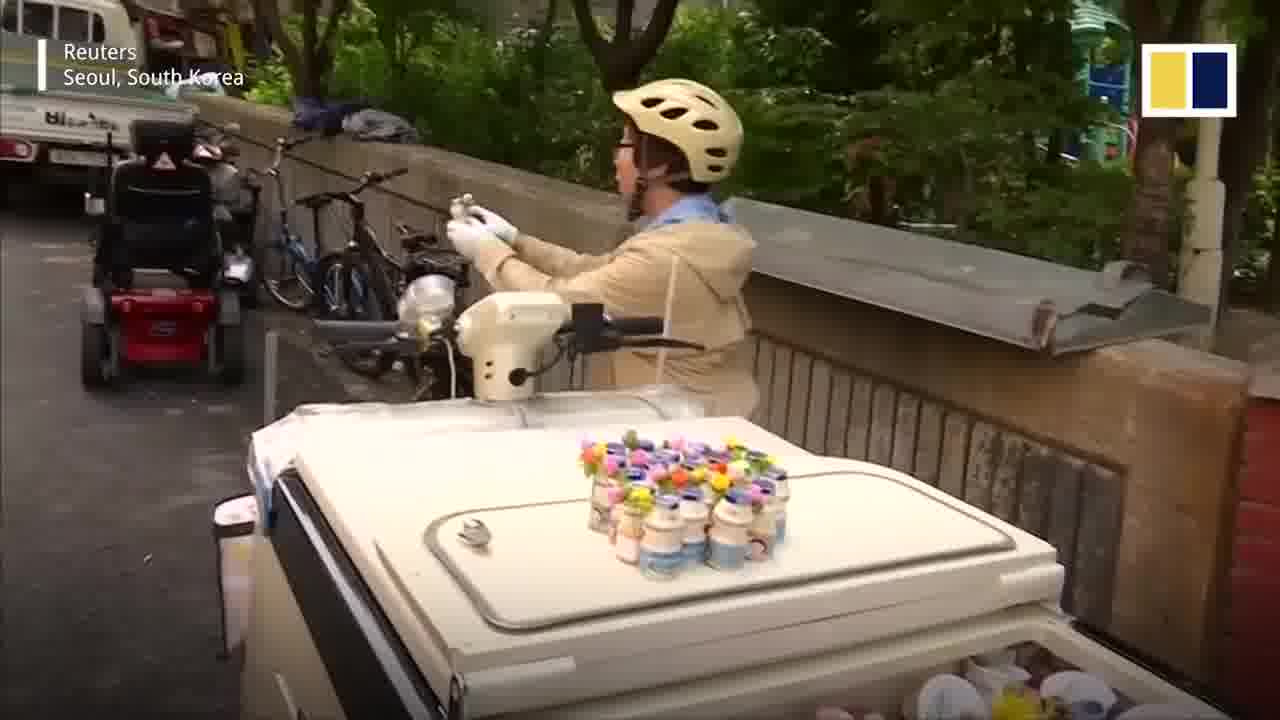Yakurut: (419, 67, 819, 427)
